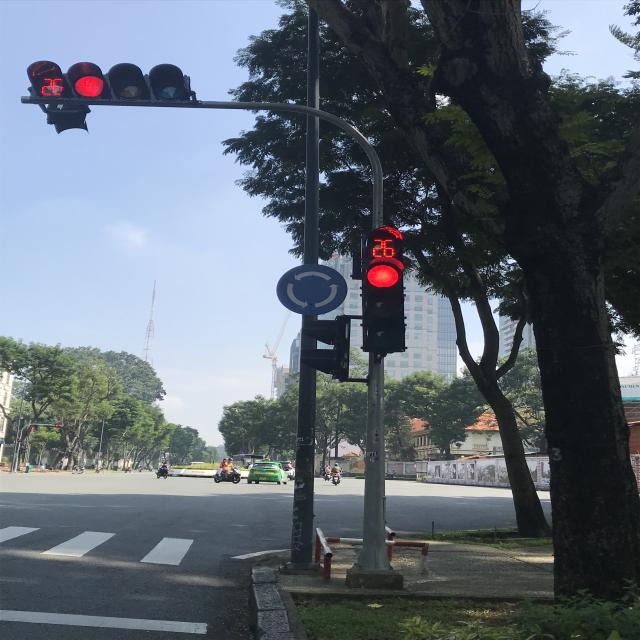Red: (63, 54, 189, 111), (357, 254, 413, 356)
